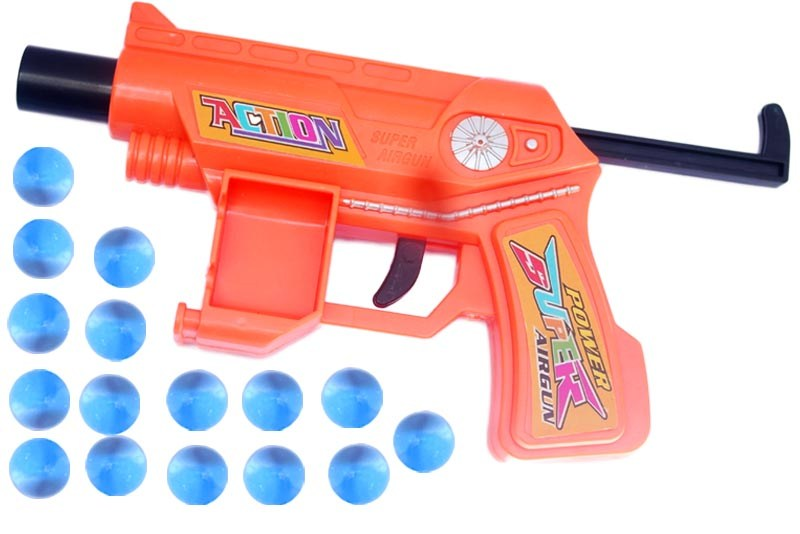Arma Falsa: (9, 1, 800, 459)
